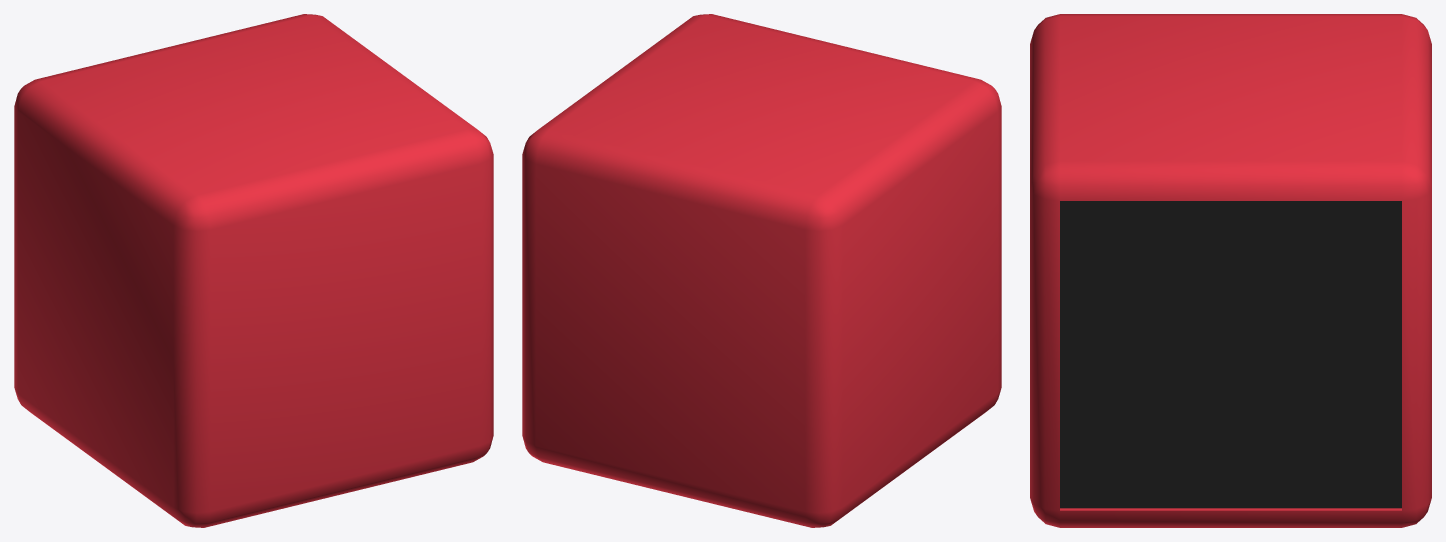
File: ItemBox.fbx
3 renders of one model, left to right at view 1: azimuth 30°, elevation 25°; view 2: azimuth 150°, elevation 25°; view 3: azimuth 270°, elevation 25°, orthographic. The views are drawn at different scales.
Parts seen in each view (by area): view 1: Cube; view 2: Cube; view 3: Cube.
Boxes of the visible parts, x1,y1,x2,y2 form: Cube: (14,14,493,527); Cube: (522,14,1001,527); Cube: (1030,14,1431,527).
Size of the model in its own units: 200 by 200 by 200.
